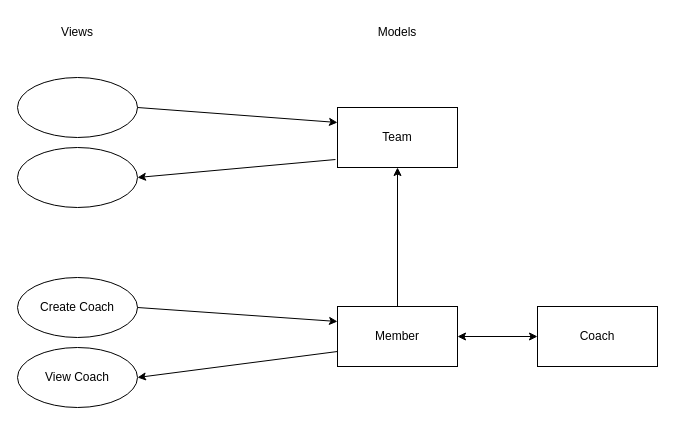
This 675x425 diagram has some shape labels left out. The shapes that lost their labels are listed below. From the top down, each one's centre as x and y in pixels, then its label:
point 77,107: Create Team
point 77,177: View Team
